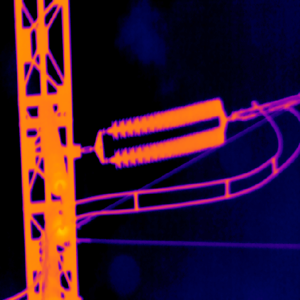insulator: (108, 98, 226, 166)
